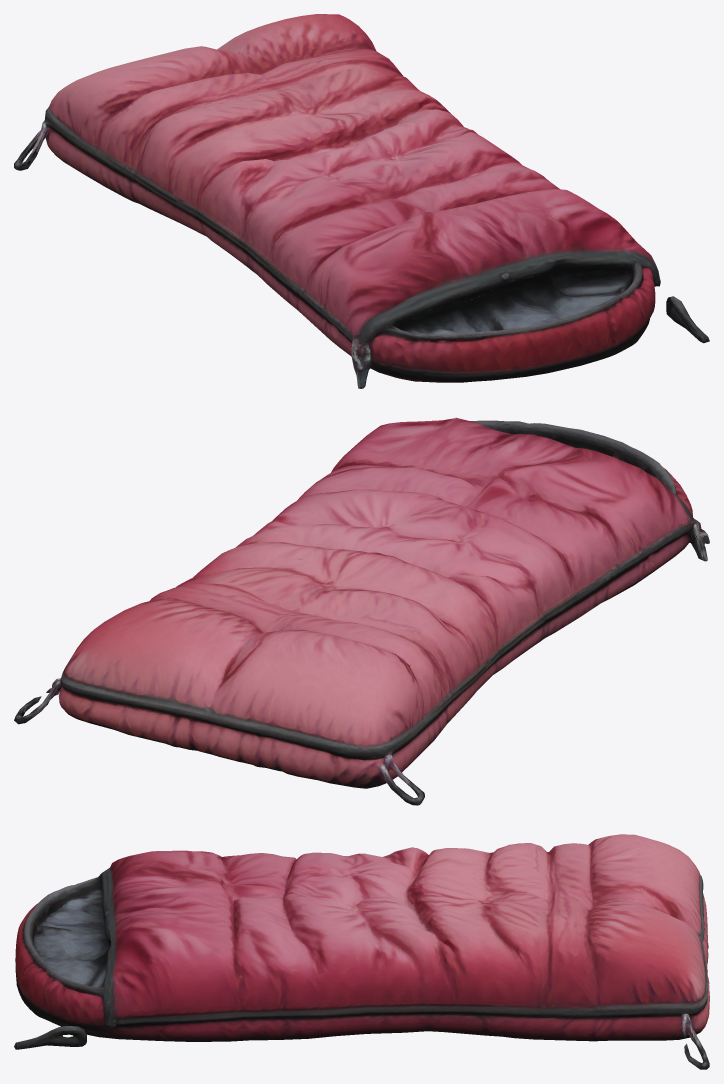
File: sleeping_bag.glb
The picture shows the model from 3 angles, top to bottom: view 1: azimuth 30°, elevation 25°; view 2: azimuth 150°, elevation 25°; view 3: azimuth 270°, elevation 25°; orthographic projection. The views are drawn at different scales.
Visible parts, largest first — view 1: world_0; view 2: world_0; view 3: world_0.
Part boxes in pixels (<box>): world_0: <box>14,14,709,388</box>; world_0: <box>14,417,709,805</box>; world_0: <box>14,834,709,1069</box>.
Size of the model in its own units: 0.5894 by 0.1555 by 0.9994.
Materials: 1 (1 with a texture image).
